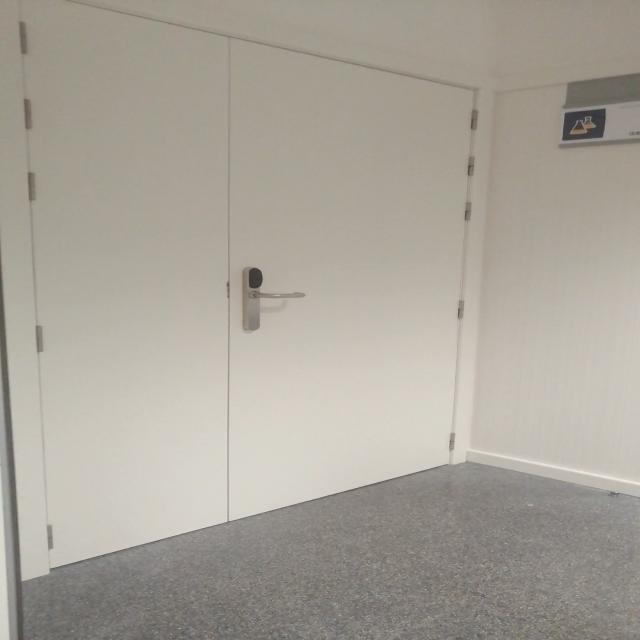door_handle: (247, 288, 309, 301)
